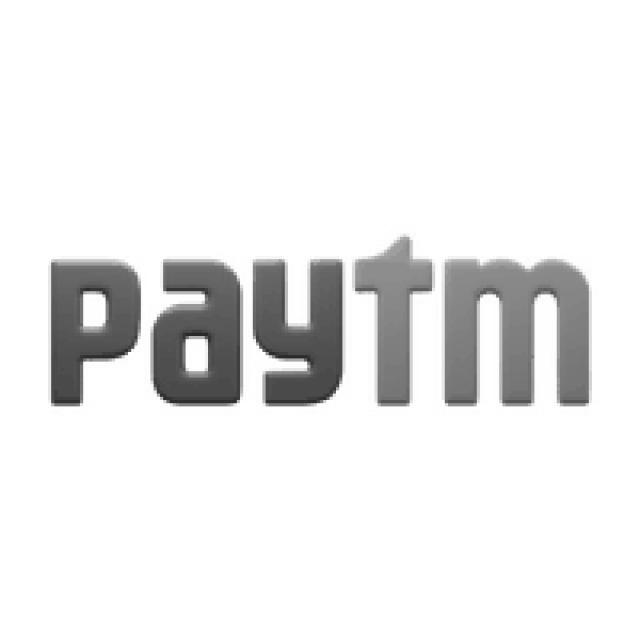fully_visible: (34, 220, 602, 430)
